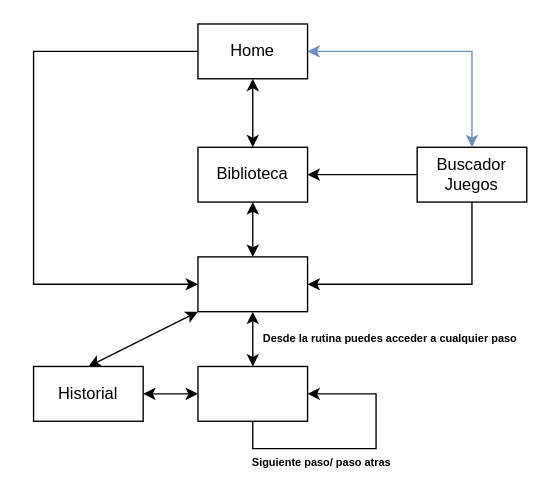
Image size: 551x500. Some labels were removed from this diagram. The centre of each missing label's shape, as x and y in pixels:
Pasos: point (252, 393)
Rutina: point (252, 284)
